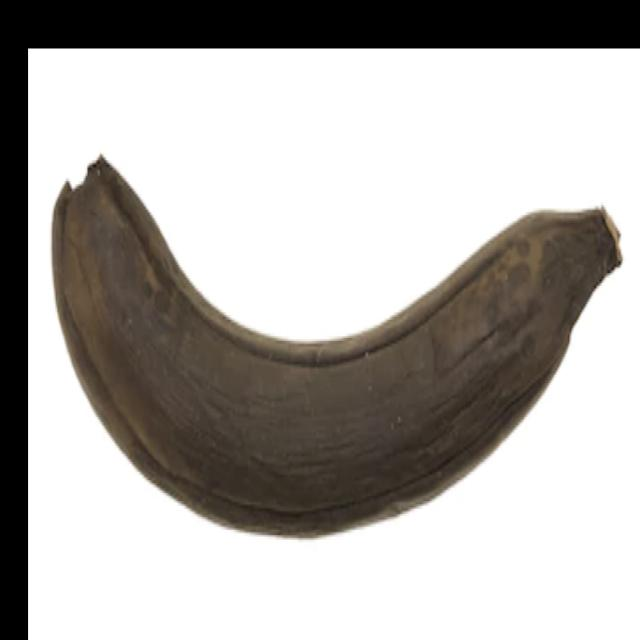Rotten: (38, 145, 639, 564)
